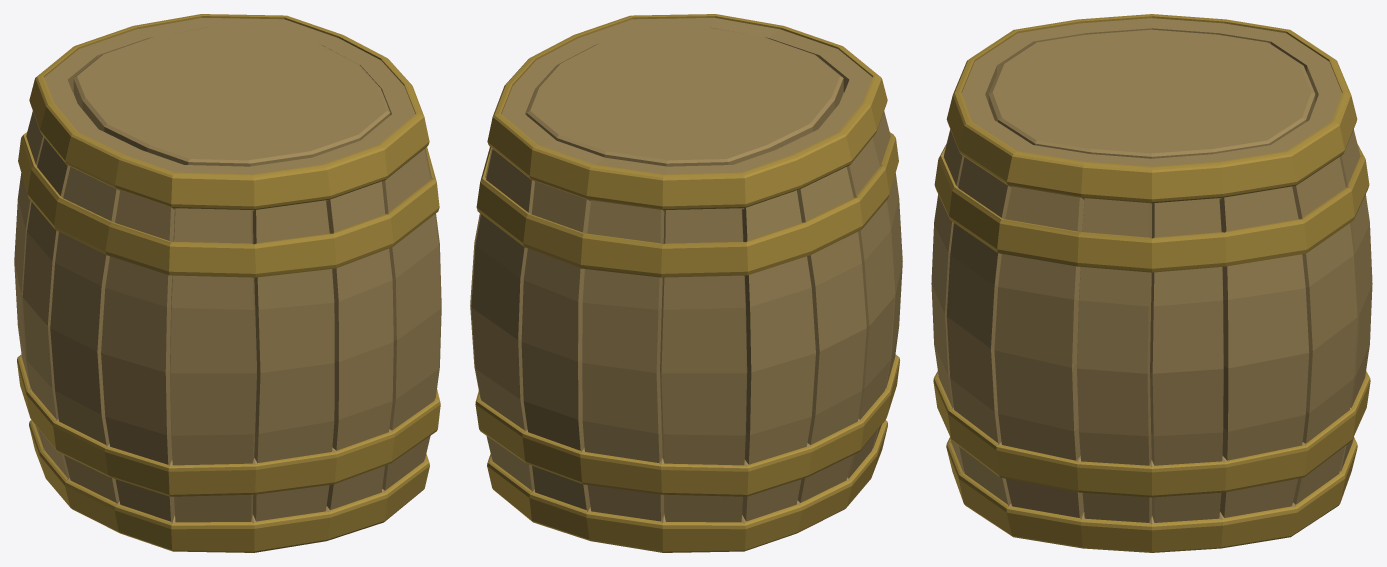
Rendered from Barrel.fbx.
3 renders of one model, left to right at view 1: azimuth 30°, elevation 25°; view 2: azimuth 150°, elevation 25°; view 3: azimuth 270°, elevation 25°, orthographic.
Parts seen in each view (by area): view 1: Cube, Lock; view 2: Cube, Lock; view 3: Cube, Lock.
Boxes of the visible parts, bbox=[...] form: Cube: bbox=[14, 14, 441, 552]; Lock: bbox=[73, 27, 390, 166]; Cube: bbox=[470, 14, 902, 552]; Lock: bbox=[526, 27, 843, 166]; Cube: bbox=[931, 14, 1372, 552]; Lock: bbox=[988, 29, 1315, 158].
Bounding box in the file's own units: 351 × 349 × 363.
